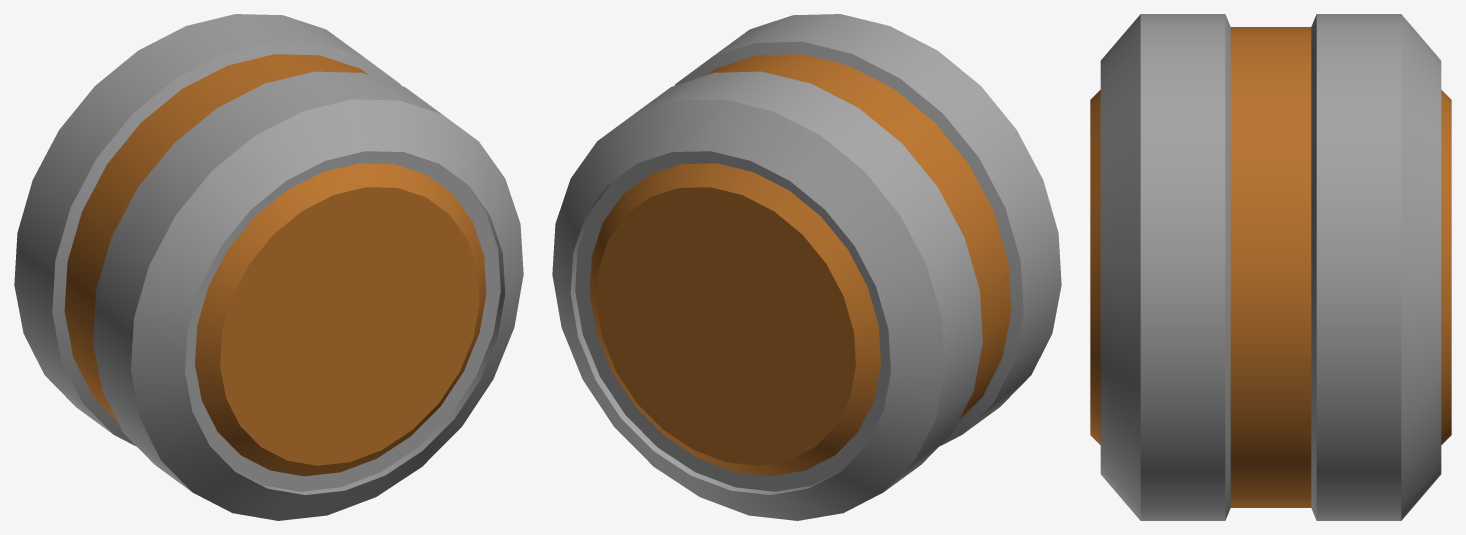
The model's file is quaternius-modular-sci-fi-guns-cylinder-pistol-1.glb.
3 renders of one model, left to right at view 1: azimuth 30°, elevation 25°; view 2: azimuth 150°, elevation 25°; view 3: azimuth 270°, elevation 25°, orthographic. The views are drawn at different scales.
Parts seen in each view (by area): view 1: Accessory_Pistol_1; view 2: Accessory_Pistol_1; view 3: Accessory_Pistol_1.
Boxes of the visible parts, x1=… form: Accessory_Pistol_1: x1=14, y1=14, x2=523, y2=520; Accessory_Pistol_1: x1=552, y1=14, x2=1061, y2=520; Accessory_Pistol_1: x1=1090, y1=14, x2=1451, y2=520.
Bounding box in the file's own units: 0.25 × 0.2495 × 0.1782.
